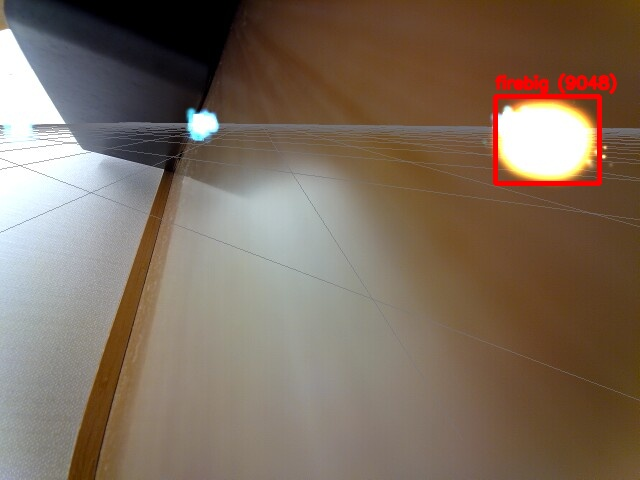firebig: (495, 96, 599, 183)
